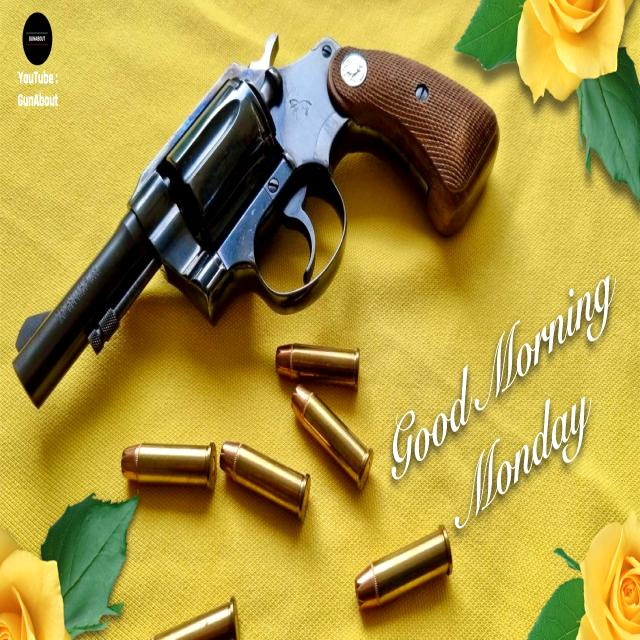revolver: (10, 18, 508, 444)
